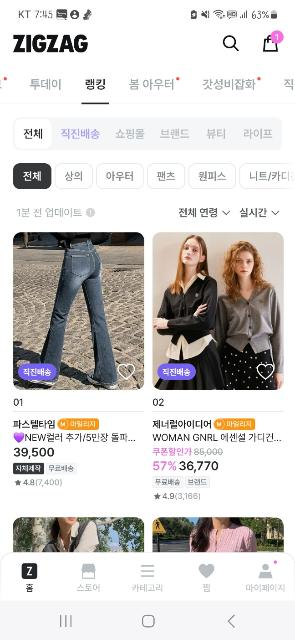Bottom_Navigation: (0, 552, 295, 601)
Icon: (264, 30, 284, 51), (118, 362, 136, 382), (256, 362, 276, 380), (20, 562, 38, 580), (258, 562, 274, 580), (197, 564, 215, 578), (223, 35, 238, 51), (82, 564, 96, 580), (142, 565, 154, 577), (86, 207, 94, 217), (221, 210, 231, 216), (272, 210, 280, 217)
Image: (14, 232, 144, 390), (154, 232, 284, 390)
Multi_Tab: (0, 63, 295, 105), (13, 119, 282, 148)
Text: (14, 34, 88, 54), (152, 433, 282, 442), (14, 434, 136, 442), (154, 460, 218, 472), (202, 79, 256, 91), (18, 208, 82, 218), (154, 448, 224, 457), (153, 420, 211, 428), (131, 80, 175, 90), (14, 448, 54, 458), (180, 208, 218, 218), (24, 478, 62, 488), (31, 78, 61, 90), (62, 128, 98, 138), (116, 128, 144, 140), (244, 127, 272, 139), (106, 170, 134, 182), (13, 420, 55, 428), (250, 171, 282, 181), (160, 128, 190, 138), (248, 584, 284, 592), (162, 494, 200, 501), (22, 128, 44, 140), (241, 208, 267, 218), (131, 584, 163, 592), (24, 368, 52, 377), (86, 78, 105, 90), (64, 170, 83, 182), (163, 369, 191, 377), (207, 128, 225, 140), (199, 172, 225, 180), (70, 420, 96, 428), (228, 420, 253, 428), (50, 464, 74, 472), (156, 478, 180, 486), (23, 170, 41, 180), (158, 171, 176, 181), (78, 584, 100, 592), (187, 478, 207, 486), (17, 466, 42, 472), (154, 399, 165, 407), (26, 583, 34, 591), (204, 584, 212, 592), (14, 398, 24, 404)
TextButton: (96, 163, 144, 189), (190, 164, 236, 188), (148, 162, 186, 190), (13, 162, 51, 190), (15, 119, 51, 147), (55, 164, 93, 190)
TextImageButton: (246, 563, 286, 591), (132, 565, 164, 591), (78, 562, 100, 592), (21, 563, 39, 593), (198, 564, 217, 592)
Toolbar: (0, 28, 295, 61)
UpperTaskBar: (0, 0, 295, 27)
